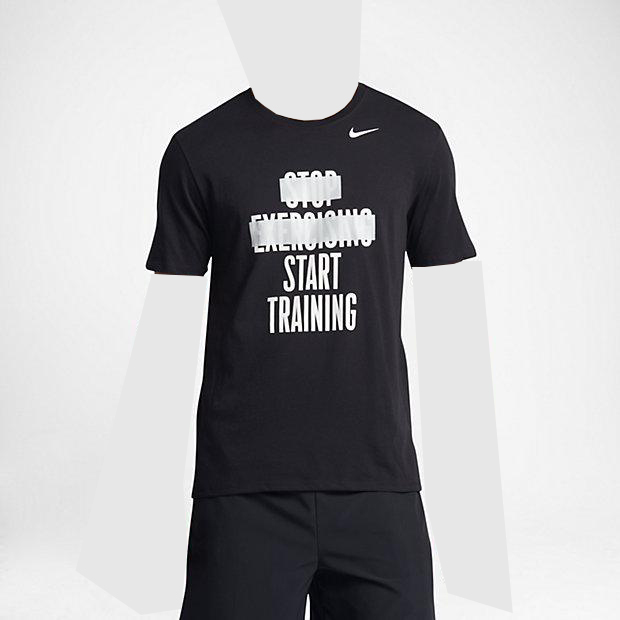teeshirt: (139, 79, 480, 496)
